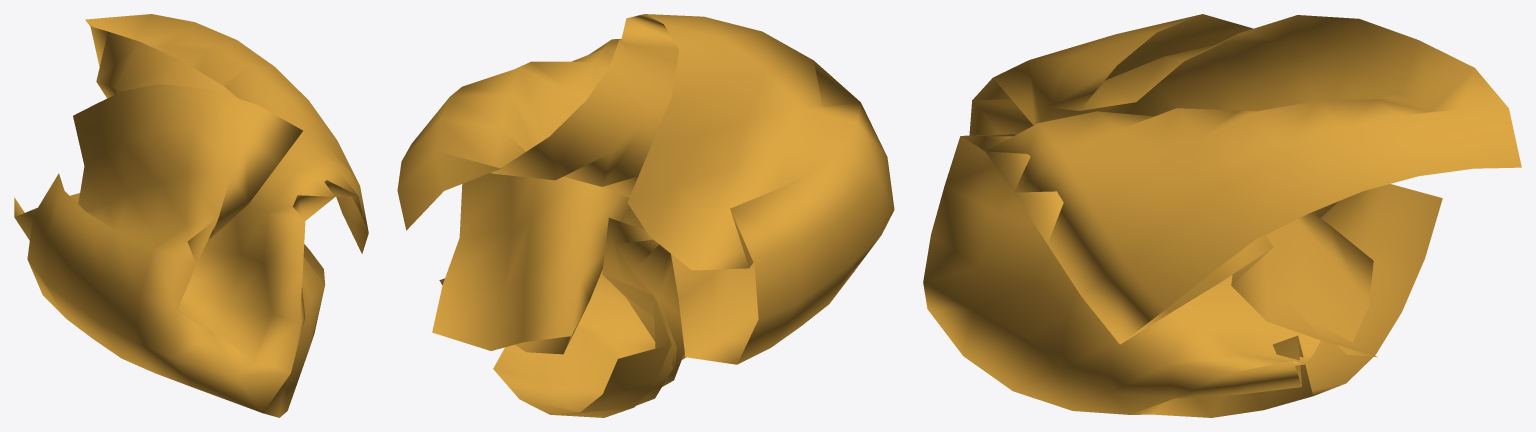
3 renders of one model, left to right at view 1: azimuth 30°, elevation 25°; view 2: azimuth 150°, elevation 25°; view 3: azimuth 270°, elevation 25°, orthographic. The views are drawn at different scales.
Visible parts, largest first — view 1: alt5.001; view 2: alt5.001; view 3: alt5.001.
Part boxes in pixels (left/top/right/bottom): alt5.001: left=14, top=14, right=368, bottom=417; alt5.001: left=397, top=14, right=894, bottom=417; alt5.001: left=923, top=14, right=1521, bottom=417.
Size of the model in its own units: 0.3397 by 0.3518 by 0.5.
